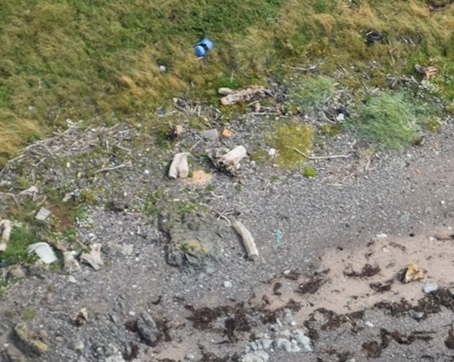scattered_barrel: (160, 77, 275, 141)
straight_bar: (226, 211, 265, 264)
white_in_green: (13, 224, 77, 280), (177, 21, 234, 72)
